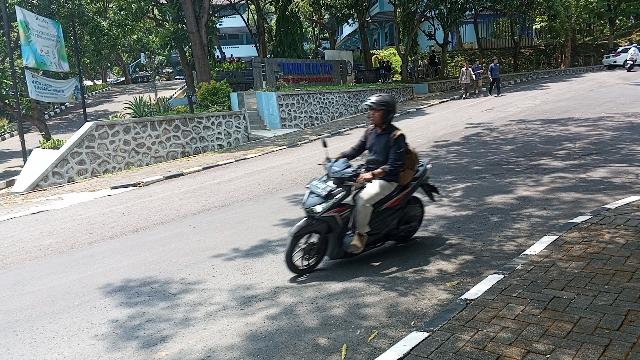helm: (361, 93, 400, 130)
motor: (284, 137, 443, 277)
